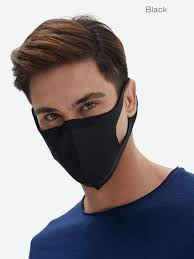with-mask: (18, 15, 144, 195)
